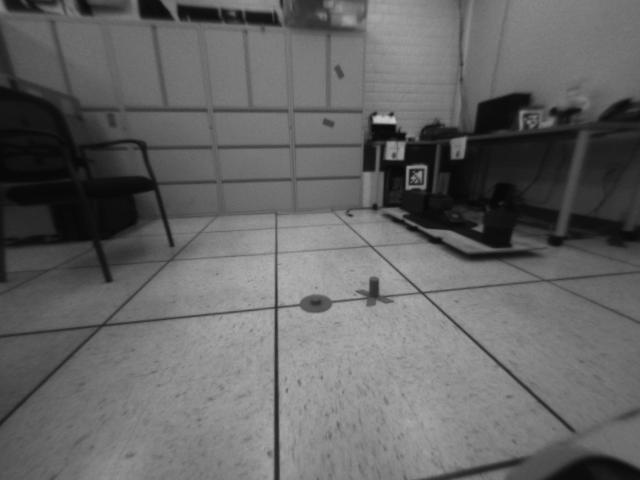X: (355, 276, 396, 308)
